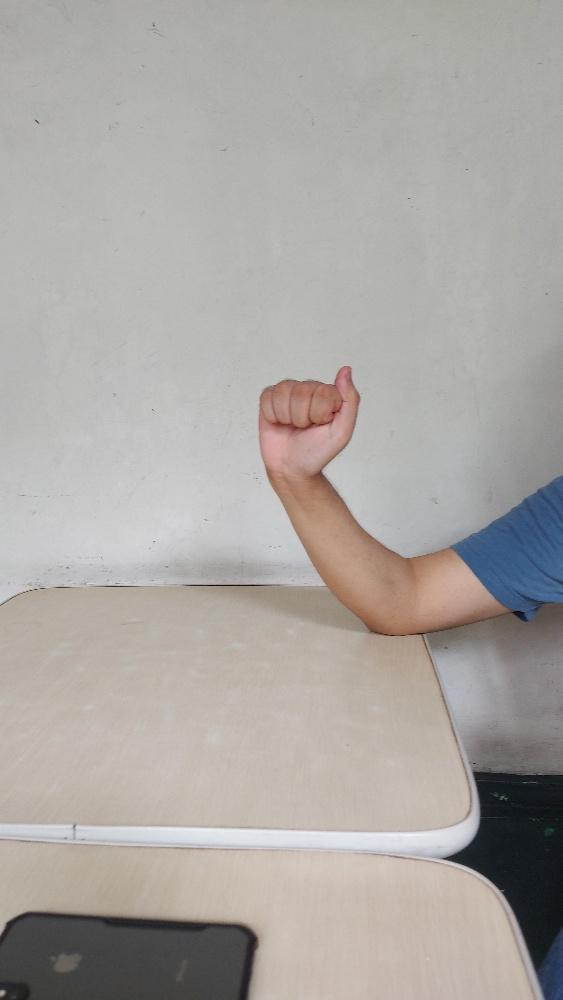a: (257, 364, 359, 477)
